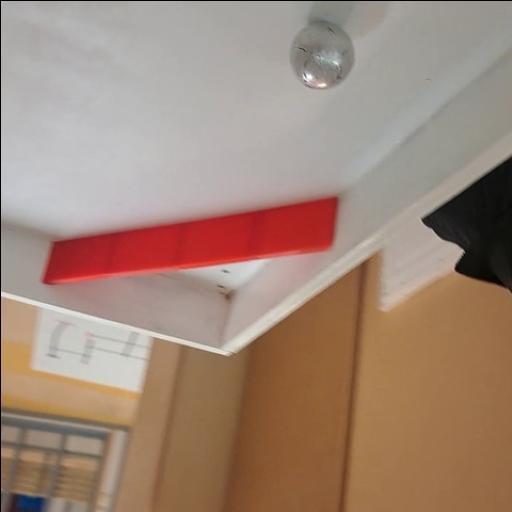alive: (285, 19, 355, 91)
